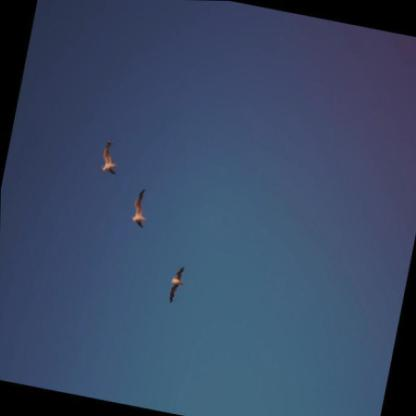bird: (94, 133, 123, 178), (162, 261, 189, 308), (126, 185, 153, 229)
